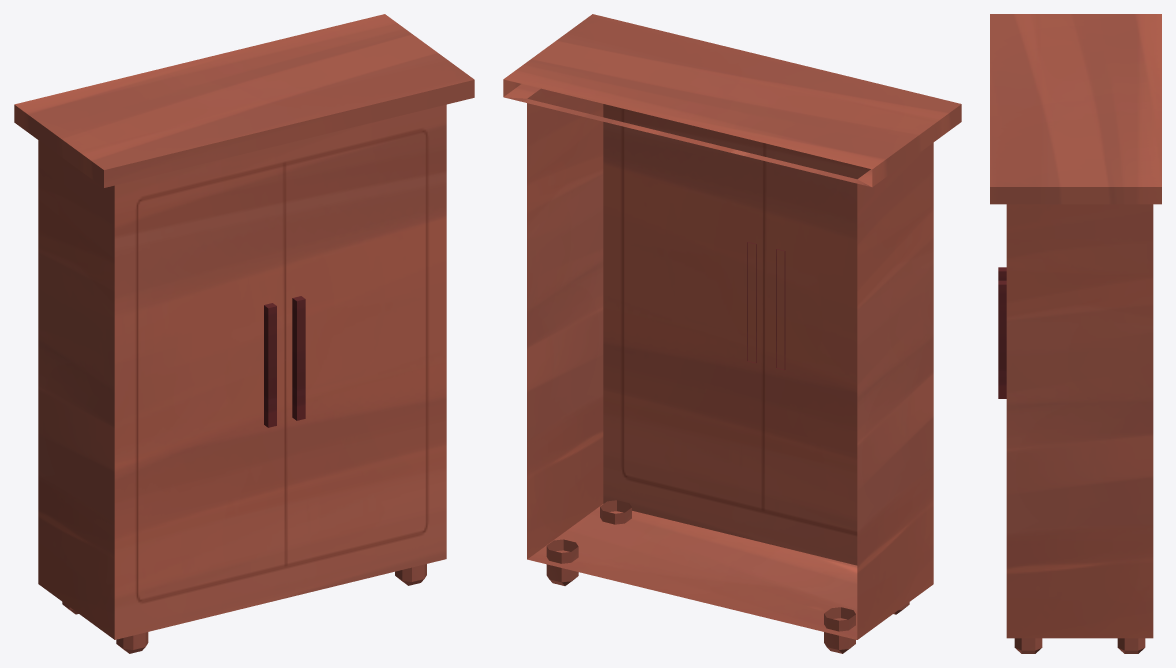
File: closet.fbx
3 renders of one model, left to right at view 1: azimuth 30°, elevation 25°; view 2: azimuth 150°, elevation 25°; view 3: azimuth 270°, elevation 25°, orthographic. The views are drawn at different scales.
Visible parts, largest first — view 1: closet; view 2: closet; view 3: closet.
Boxes of the visible parts, x1=… form: closet: x1=14, y1=14, x2=474, y2=653; closet: x1=503, y1=14, x2=961, y2=653; closet: x1=990, y1=14, x2=1161, y2=653.
Bounding box in the file's own units: 1.68 × 2.19 × 0.7032.
